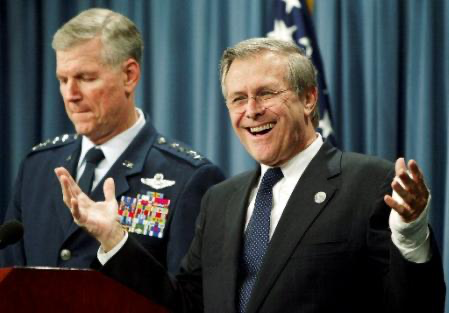Face: (224, 64, 301, 166), (53, 40, 125, 137)
